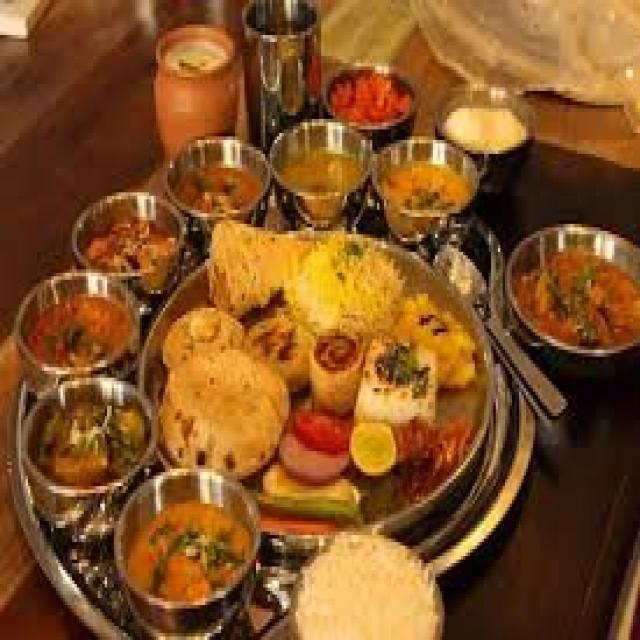dal: (289, 229, 416, 349)
roti: (156, 307, 284, 489)
sweet: (69, 179, 188, 304), (171, 131, 269, 225), (278, 400, 365, 481), (332, 64, 416, 134), (307, 327, 367, 410)
veg-fry: (498, 210, 640, 373), (116, 463, 251, 621), (22, 268, 143, 386)
